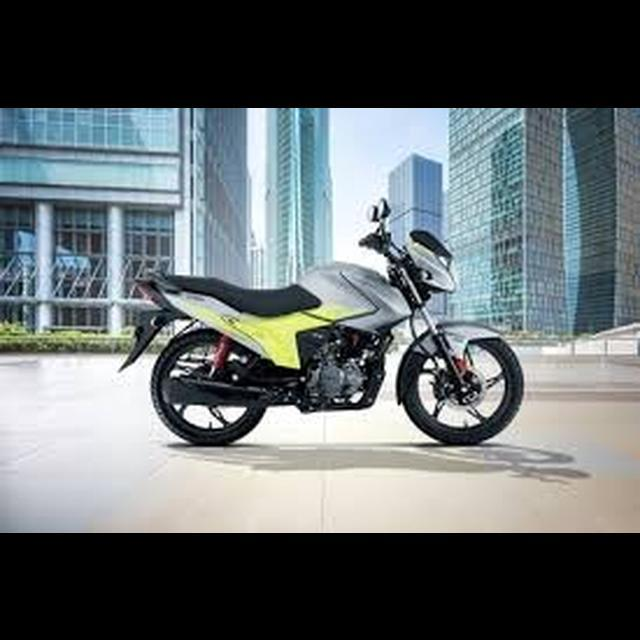motorcycle: (119, 191, 529, 451)
